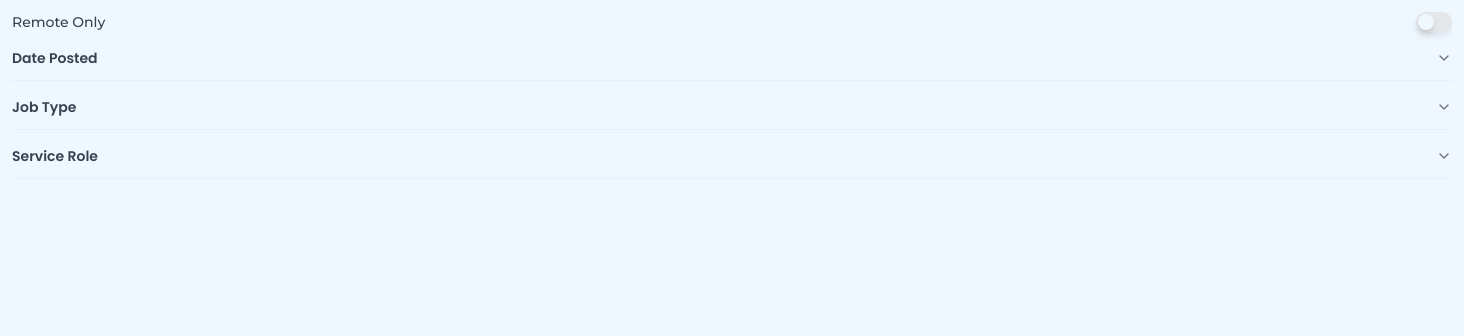
Test case: FilterOptionsContent › Job Type checkboxes › reflects checked state from props
Click the button "Job Type" at (44, 107), box [12,85,1452,129]
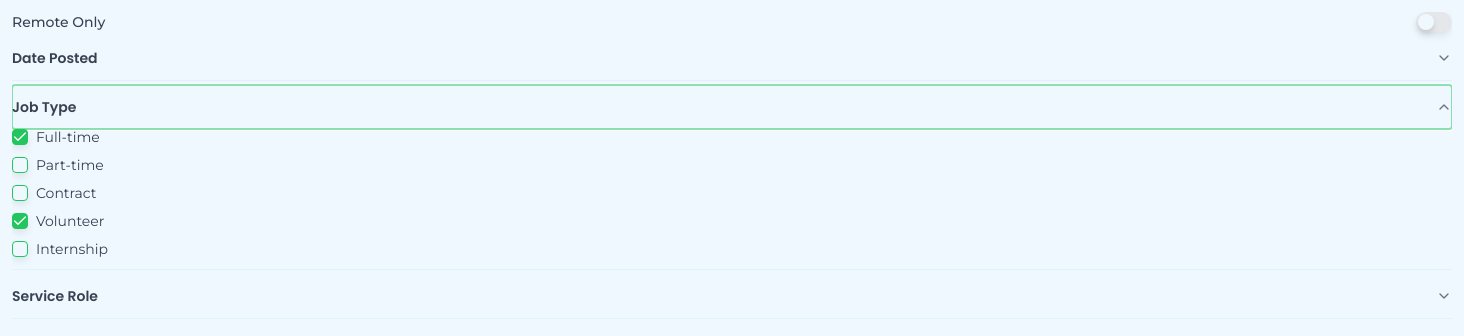
Result: the checkbox named "full-time" next to "Full-time" is checked at [12,129,28,145]
Result: the checkbox named "volunteer" next to "Volunteer" is checked at [12,213,28,229]
Result: the checkbox named "contract" next to "Contract" is not checked at [12,185,28,201]
